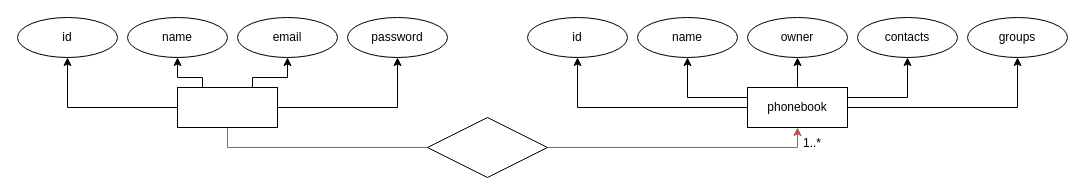
The diagram is 1085 pixels wide and 195 high, and some of its shapes have lost their labels. Each missing label, with the box of its shape:
posee: (426, 116, 548, 178)
user: (176, 86, 278, 128)
